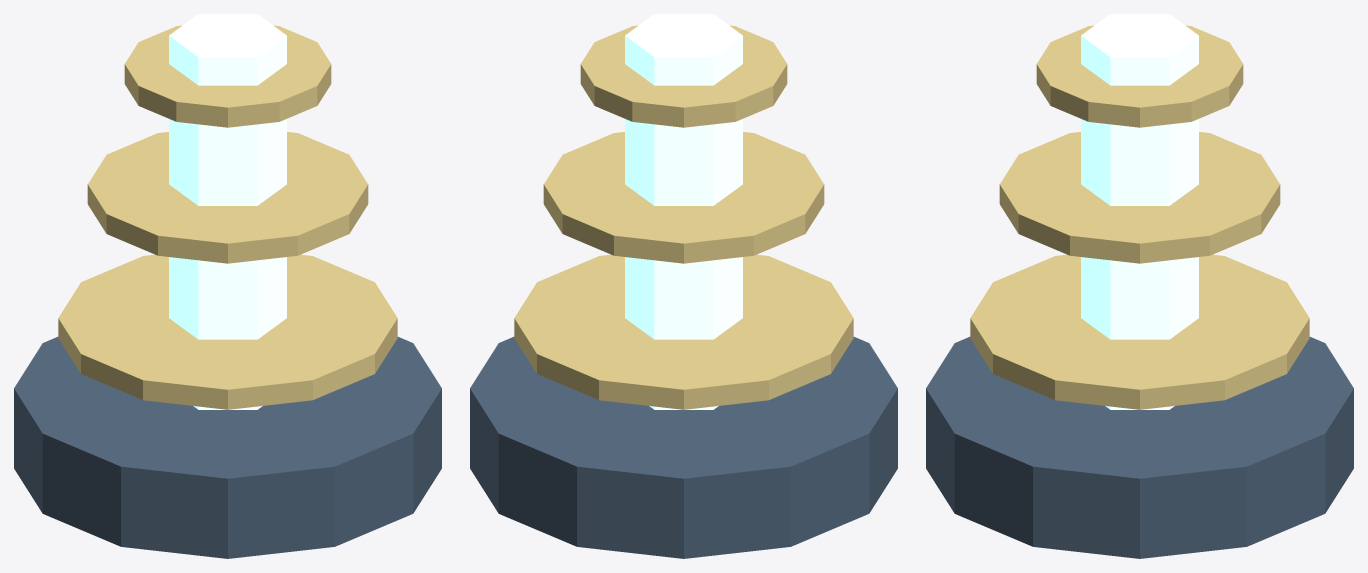
Rendered from turret_chrono.glb.
The picture shows the model from 3 angles, left to right: view 1: azimuth 30°, elevation 25°; view 2: azimuth 150°, elevation 25°; view 3: azimuth 270°, elevation 25°; orthographic projection.
Parts seen in each view (by area): view 1: Cylinder, Cylinder.002, Cylinder.001, Cylinder.003, Cylinder.004; view 2: Cylinder, Cylinder.002, Cylinder.001, Cylinder.003, Cylinder.004; view 3: Cylinder, Cylinder.002, Cylinder.001, Cylinder.003, Cylinder.004.
Boxes of the visible parts, x1,y1,x2,y2 form: Cylinder: (14, 337, 441, 558); Cylinder.002: (58, 254, 397, 409); Cylinder.001: (169, 14, 286, 409); Cylinder.003: (87, 132, 368, 263); Cylinder.004: (124, 25, 331, 127); Cylinder: (470, 337, 897, 558); Cylinder.002: (514, 254, 853, 409); Cylinder.001: (625, 14, 742, 409); Cylinder.003: (543, 132, 824, 263); Cylinder.004: (580, 25, 787, 127); Cylinder: (926, 337, 1353, 558); Cylinder.002: (970, 254, 1309, 409); Cylinder.001: (1081, 14, 1198, 409); Cylinder.003: (999, 132, 1280, 263); Cylinder.004: (1036, 25, 1243, 127).
Bounding box in the file's own units: 1.16 × 1.3 × 1.16.
